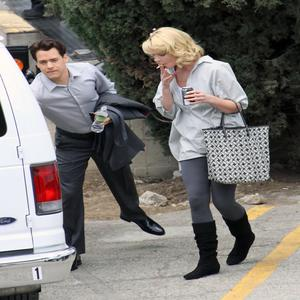cigarette: (155, 63, 163, 69)
